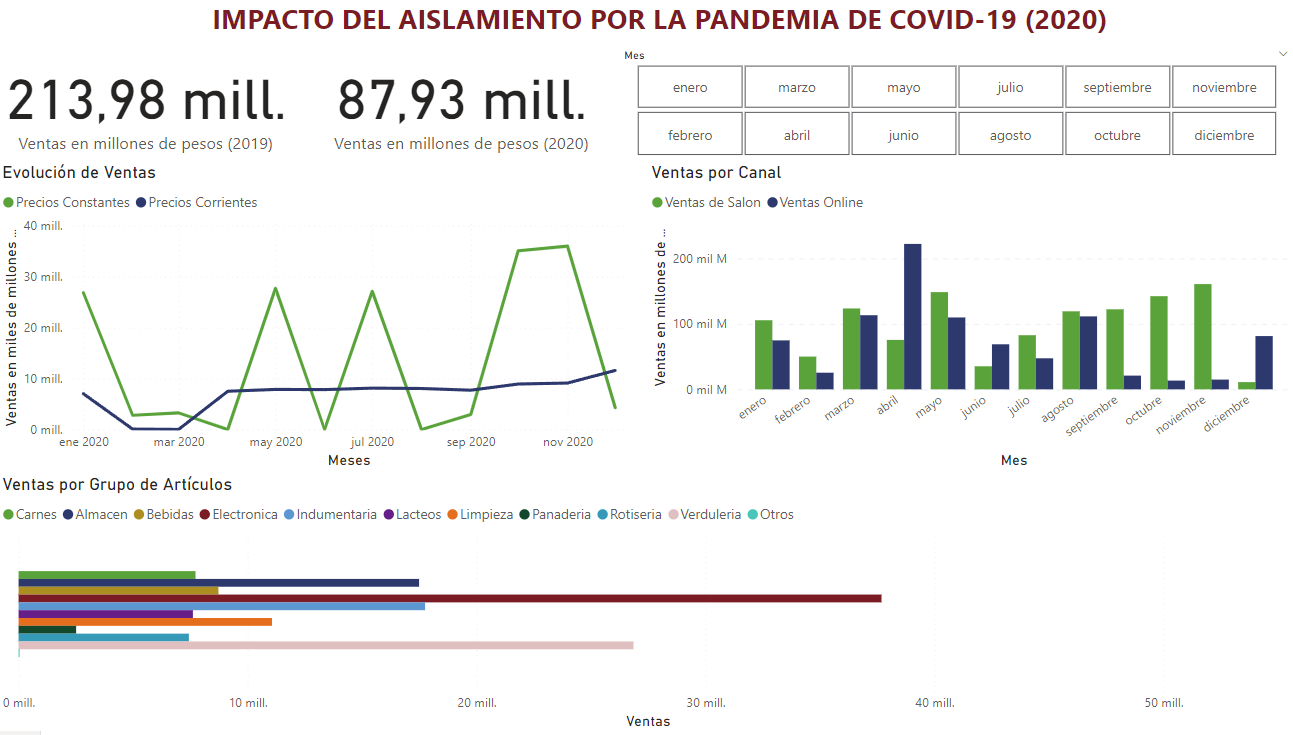

Layout of this report page (visuals, bound fields, positions):
{"tool":"powerbi","page":{"name":"Pandemia en Argentina","canvas":[1280,720],"ordinal":1},"visuals":[{"type":"textbox","box":[9.7,0,1270.3,48.6],"z":0},{"type":"card","fields":{"Values":["Sum(ventas-totales-supermercados-2 (1).total_ventas)"]},"box":[306.4,49.1,290.5,115.4],"z":1000},{"type":"card","fields":{"Values":["Sum(ventas-totales-supermercados-2 (1).total_ventas)"]},"box":[0,49.1,289.2,115.4],"z":2000},{"type":"slicer","fields":{"Values":["ventas-totales-supermercados-2 (1).Filtro Temporal.Variación.Jerarquía de fechas.Mes"]},"box":[597.5,49,671.5,114.9],"z":3000},{"type":"lineChart","title":"Evolución de Ventas","fields":{"Category":["ventas-totales-supermercados-2 (1).Filtro Temporal.Variación.Jerarquía de fechas.Año","ventas-totales-supermercados-2 (1).Filtro Temporal.Variación.Jerarquía de fechas.Mes"],"Y":["Sum(ventas-totales-supermercados-2 (1).precios_constantes_mil_millones)","Sum(ventas-totales-supermercados-2 (1).precios_corrientes_mil_millones)"]},"box":[0,163.4,631.2,303.5],"z":4000},{"type":"clusteredColumnChart","title":"Ventas por Canal","fields":{"Category":["ventas-totales-supermercados-2 (1).Filtro Temporal.Variación.Jerarquía de fechas.Mes"],"Y":["Sum(ventas-totales-supermercados-2 (1).ventas_salon_millones)","Sum(ventas-totales-supermercados-2 (1).ventas_online_millones)"]},"box":[631.2,163.4,632.2,303.5],"z":5000},{"type":"clusteredBarChart","title":"Ventas por Grupo de Artículos","fields":{"Category":["ventas-totales-supermercados-2 (1).Filtro Temporal"],"Y":["Sum(ventas-totales-supermercados-2 (1).carnes_mil_millones)","Sum(ventas-totales-supermercados-2 (1).almacen_mil_millones)","Sum(ventas-totales-supermercados-2 (1).bebidas_mil_millones)","Sum(ventas-totales-supermercados-2 (1).electronica_mil_millones)","Sum(ventas-totales-supermercados-2 (1).indumentaria_mil_millones)","Sum(ventas-totales-supermercados-2 (1).lacteos_mil_millones)","Sum(ventas-totales-supermercados-2 (1).limpieza_mil_millones)","Sum(ventas-totales-supermercados-2 (1).panaderia_mil_millones)","Sum(ventas-totales-supermercados-2 (1).rotiseria_mil_millones)","Sum(ventas-totales-supermercados-2 (1).verduleria_mil_millones)","Sum(ventas-totales-supermercados-2 (1).otros_mil_millones)"]},"box":[0,466.9,1280,253.9],"z":6000}]}

Visuals, with their boxes in screenshot pixels (x1, y1, x2, y2), scaled from the page's 1280x720 canvas onto the 1293x735 screenshot:
textbox: {"x1": 10, "y1": 0, "x2": 1292, "y2": 50}
card - Sum(ventas-totales-supermercados-2 (1).total_ventas): {"x1": 310, "y1": 50, "x2": 603, "y2": 168}
card - Sum(ventas-totales-supermercados-2 (1).total_ventas): {"x1": 0, "y1": 50, "x2": 292, "y2": 168}
slicer - ventas-totales-supermercados-2 (1).Filtro Temporal.Variación.Jerarquía de fechas.Mes: {"x1": 604, "y1": 50, "x2": 1282, "y2": 167}
"Evolución de Ventas" lineChart: {"x1": 0, "y1": 167, "x2": 638, "y2": 477}
"Ventas por Canal" clusteredColumnChart: {"x1": 638, "y1": 167, "x2": 1276, "y2": 477}
"Ventas por Grupo de Artículos" clusteredBarChart: {"x1": 0, "y1": 477, "x2": 1292, "y2": 734}
